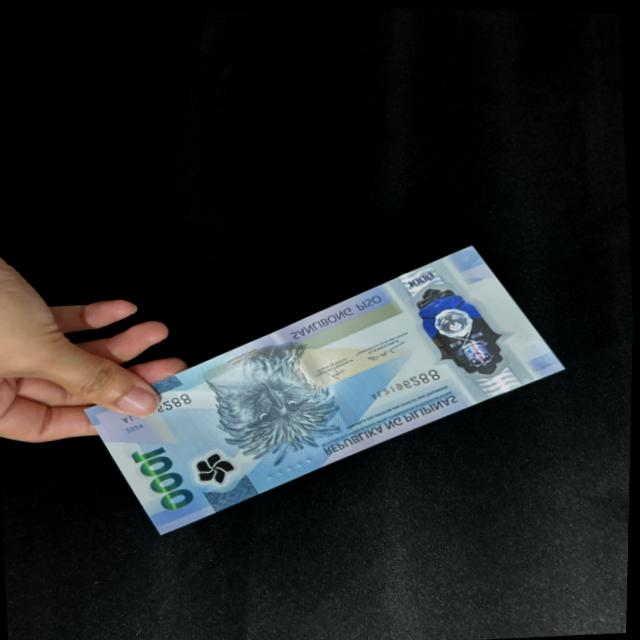clear_window: (409, 271, 519, 386)
eagle: (202, 344, 352, 472)
sampaguita: (194, 451, 234, 485)
serial_number: (363, 357, 445, 408)
